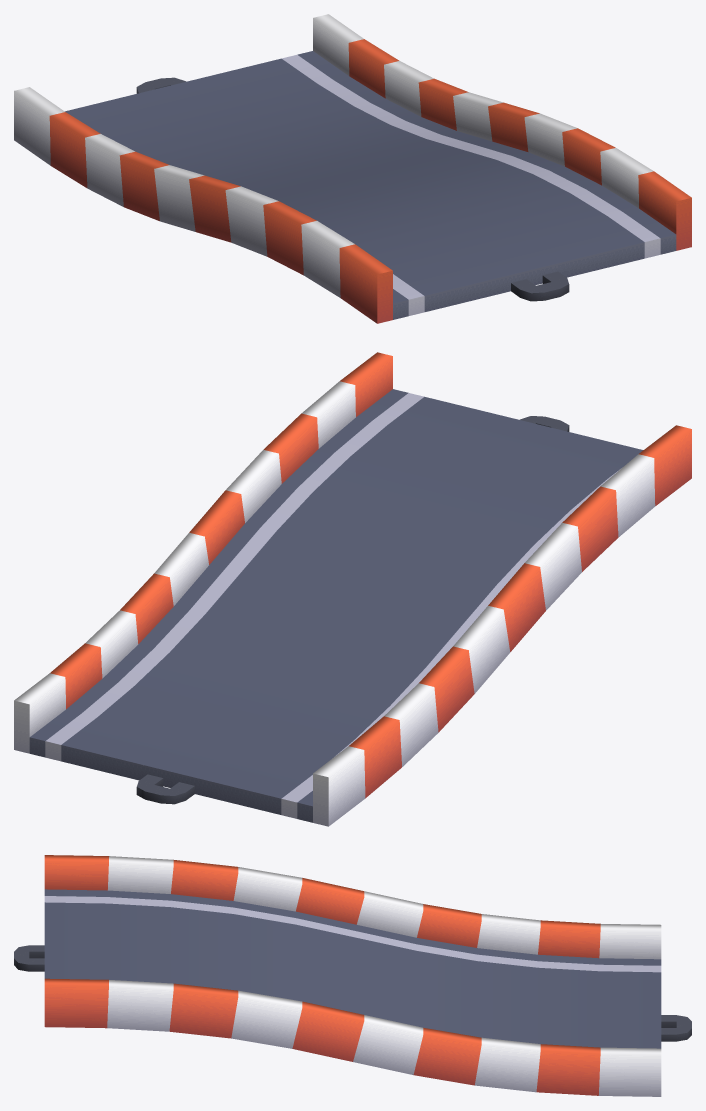
Rendered from track-road-wide-straight-hill-complete-half.glb.
The picture shows the model from 3 angles, top to bottom: view 1: azimuth 30°, elevation 25°; view 2: azimuth 150°, elevation 25°; view 3: azimuth 270°, elevation 25°; orthographic projection. The views are drawn at different scales.
Visible parts, largest first — view 1: track-road-wide-straight-hill-complete-half; view 2: track-road-wide-straight-hill-complete-half; view 3: track-road-wide-straight-hill-complete-half.
Part boxes in pixels (x1,y1,x2,y2): track-road-wide-straight-hill-complete-half: [14, 14, 691, 323]; track-road-wide-straight-hill-complete-half: [14, 352, 691, 826]; track-road-wide-straight-hill-complete-half: [14, 855, 691, 1096].
Bounding box in the file's own units: 2 × 0.8 × 4.4.
1 material, 1 textured.
